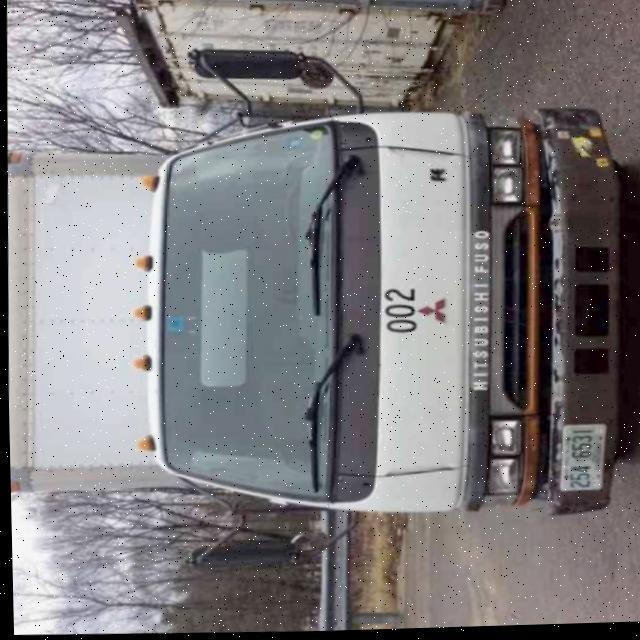truck: (1, 39, 622, 584)
